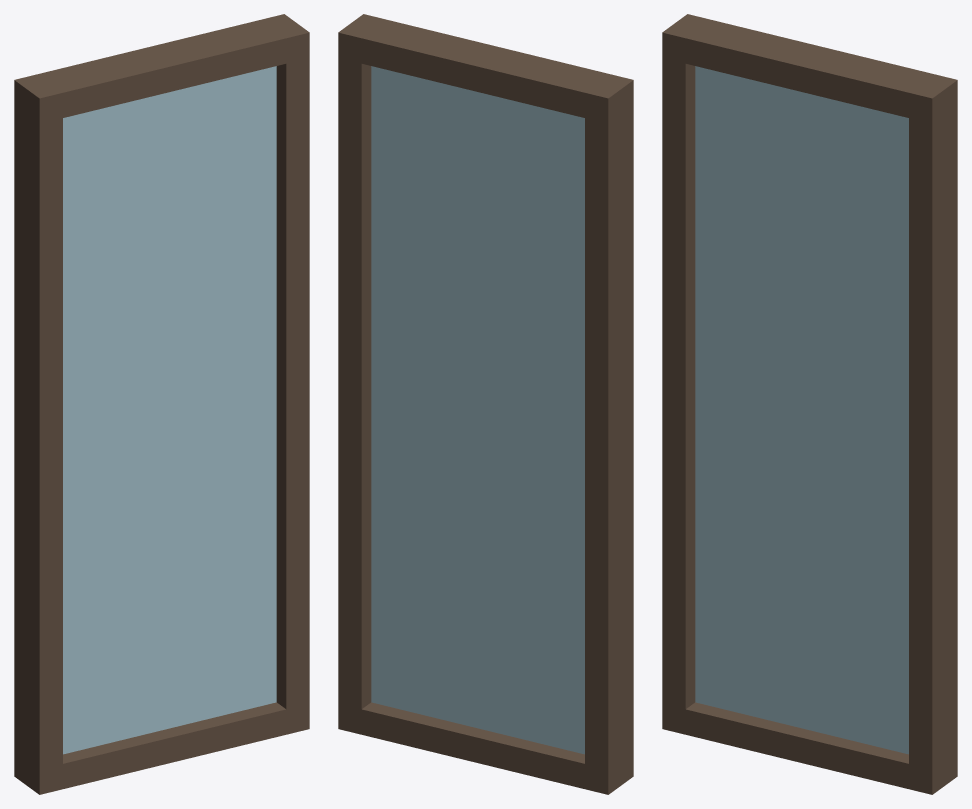
The model's file is Window_10.fbx.
3 renders of one model, left to right at view 1: azimuth 30°, elevation 25°; view 2: azimuth 150°, elevation 25°; view 3: azimuth 330°, elevation 25°, orthographic.
Visible parts, largest first — view 1: Window_10; view 2: Window_10; view 3: Window_10.
Boxes of the visible parts, x1,y1,x2,y2 form: Window_10: (14, 14, 309, 794); Window_10: (338, 14, 633, 794); Window_10: (662, 14, 957, 794).
Bounding box in the file's own units: 105 × 17.02 × 258.
